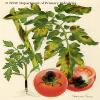Tomato Early blight leaf: (61, 44, 87, 80), (67, 24, 100, 46), (2, 3, 40, 21), (32, 20, 48, 51), (44, 37, 63, 60), (57, 3, 92, 14)
